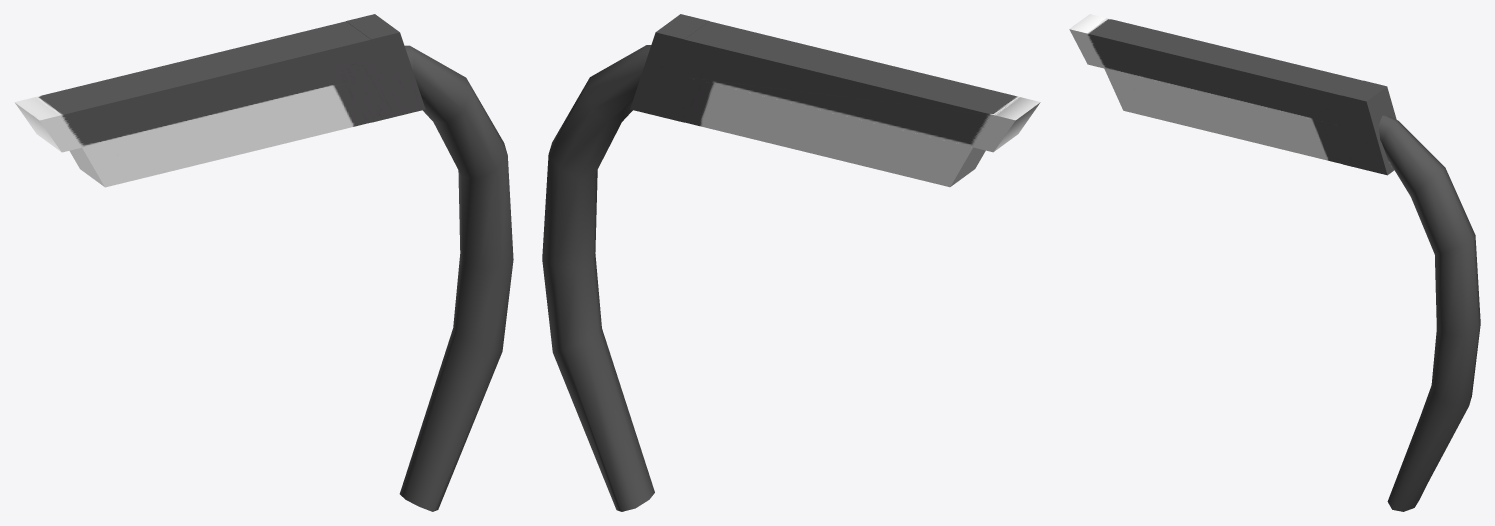
File: Light_6.fbx
The picture shows the model from 3 angles, left to right: view 1: azimuth 30°, elevation 25°; view 2: azimuth 150°, elevation 25°; view 3: azimuth 330°, elevation 25°; orthographic projection. The views are drawn at different scales.
Visible parts, largest first — view 1: node_id5; view 2: node_id5; view 3: node_id5.
Part boxes in pixels (box(x1,y1,x2,y2)): node_id5: box(14, 14, 513, 511); node_id5: box(542, 14, 1040, 511); node_id5: box(1069, 14, 1480, 511).
Bounding box in the file's own units: 0.512 × 0.497 × 0.052.
1 material, 1 textured.
